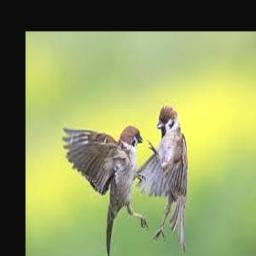Sparrow: (61, 125, 149, 256), (135, 104, 188, 253)
